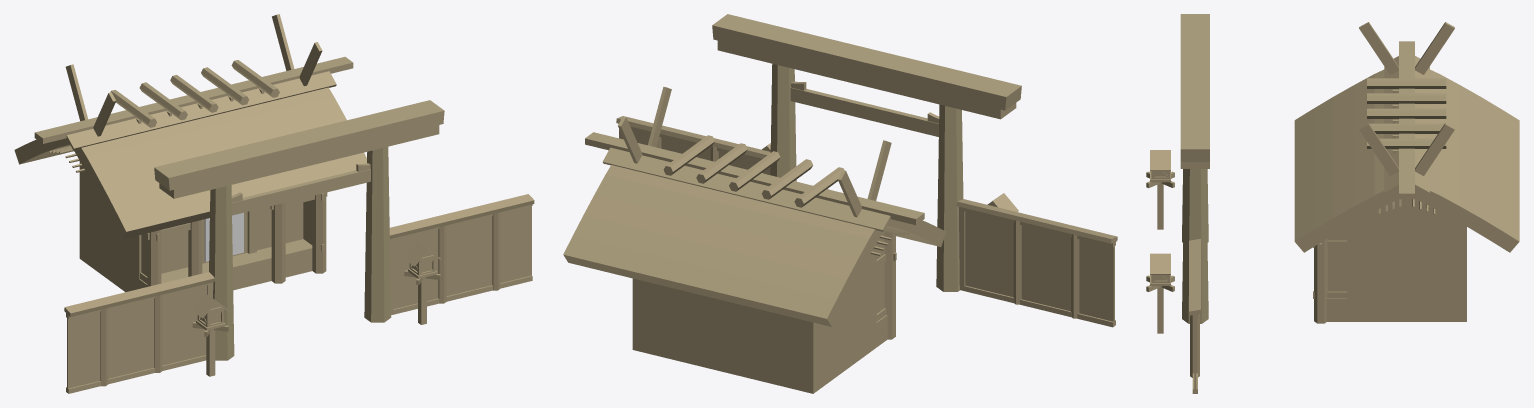
Rendered from Naign_outside.fbx.
The picture shows the model from 3 angles, left to right: view 1: azimuth 30°, elevation 25°; view 2: azimuth 150°, elevation 25°; view 3: azimuth 270°, elevation 25°; orthographic projection. The views are drawn at different scales.
Parts seen in each view (by area): view 1: Cube.010, Cube.005, Cube, Cylinder, Cube.011, Cube.013, Cube.004, Cylinder.001, Cube.001, Cube.009, Cube.012, Cube.015 (+11 smaller); view 2: Cube.010, Cube.011, Cube.005, Cube, Cylinder, Cube.013, Cube.001, Cylinder.001, Cube.012, Cube.004, Cube.002, Cube.014 (+6 smaller); view 3: Cube.010, Cube.011, Cube, Cylinder.001, Cylinder, Cube.014, Cube.012, Cube.013, Cylinder.002, Cube.016, Cube.004, Cube.030 (+4 smaller).
Part boxes in pixels (x1=…): Cube.010: x1=14, y1=87, x2=366, y2=239; Cube.005: x1=67, y1=206, x2=531, y2=392; Cube: x1=154, y1=100, x2=444, y2=190; Cylinder: x1=209, y1=147, x2=391, y2=360; Cube.011: x1=79, y1=161, x2=303, y2=292; Cube.013: x1=66, y1=71, x2=336, y2=150; Cube.004: x1=64, y1=194, x2=534, y2=317; Cylinder.001: x1=110, y1=60, x2=279, y2=127; Cube.001: x1=159, y1=125, x2=439, y2=198; Cube.009: x1=100, y1=212, x2=500, y2=386; Cube.012: x1=34, y1=56, x2=353, y2=143; Cube.015: x1=139, y1=239, x2=312, y2=290; Cube.010: x1=563, y1=165, x2=945, y2=326; Cube.011: x1=632, y1=243, x2=876, y2=393; Cube.005: x1=619, y1=129, x2=1114, y2=326; Cube: x1=712, y1=14, x2=1021, y2=110; Cylinder: x1=770, y1=63, x2=963, y2=291; Cube.013: x1=602, y1=147, x2=890, y2=231; Cube.001: x1=717, y1=39, x2=1016, y2=119; Cylinder.001: x1=663, y1=135, x2=844, y2=207; Cube.012: x1=585, y1=132, x2=924, y2=225; Cube.004: x1=616, y1=116, x2=1117, y2=243; Cube.002: x1=790, y1=87, x2=938, y2=136; Cube.014: x1=618, y1=86, x2=891, y2=217; Cube.010: x1=1294, y1=69, x2=1519, y2=252; Cube.011: x1=1347, y1=199, x2=1466, y2=321; Cube: x1=1180, y1=14, x2=1209, y2=161; Cylinder.001: x1=1367, y1=78, x2=1446, y2=148; Cylinder: x1=1182, y1=169, x2=1208, y2=323; Cube.014: x1=1359, y1=22, x2=1454, y2=175; Cube.012: x1=1399, y1=41, x2=1414, y2=199; Cube.013: x1=1384, y1=56, x2=1429, y2=194; Cylinder.002: x1=1314, y1=238, x2=1327, y2=323; Cube.016: x1=1328, y1=227, x2=1347, y2=291; Cube.004: x1=1189, y1=238, x2=1201, y2=315; Cube.030: x1=1150, y1=150, x2=1170, y2=274.
Bounding box in the file's own units: 3688 × 1568 × 2555.
